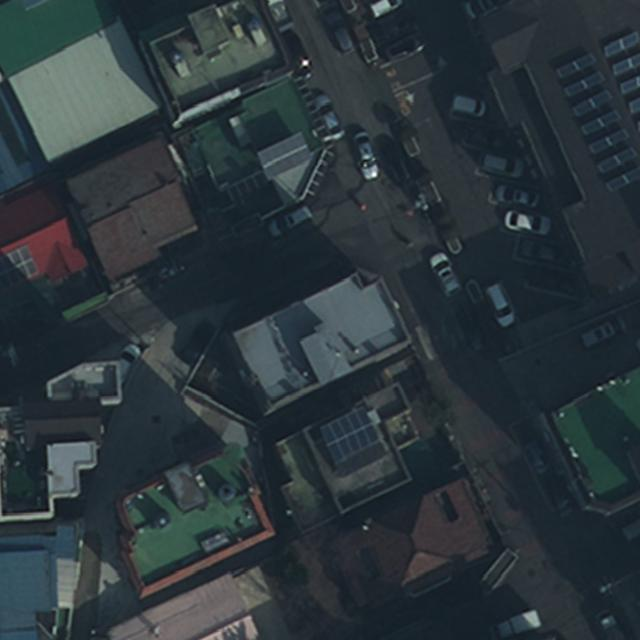panel: (317, 404, 381, 462), (256, 130, 312, 180), (571, 89, 613, 116), (554, 50, 595, 77), (562, 70, 604, 96), (597, 146, 636, 172), (579, 110, 621, 134), (588, 128, 630, 152), (604, 164, 638, 192), (603, 30, 639, 56), (611, 52, 639, 73), (619, 75, 639, 92)
